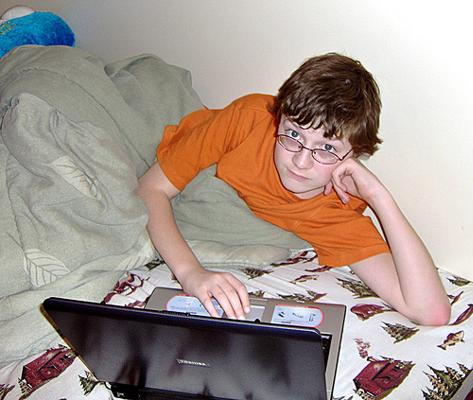person: (139, 54, 452, 328)
